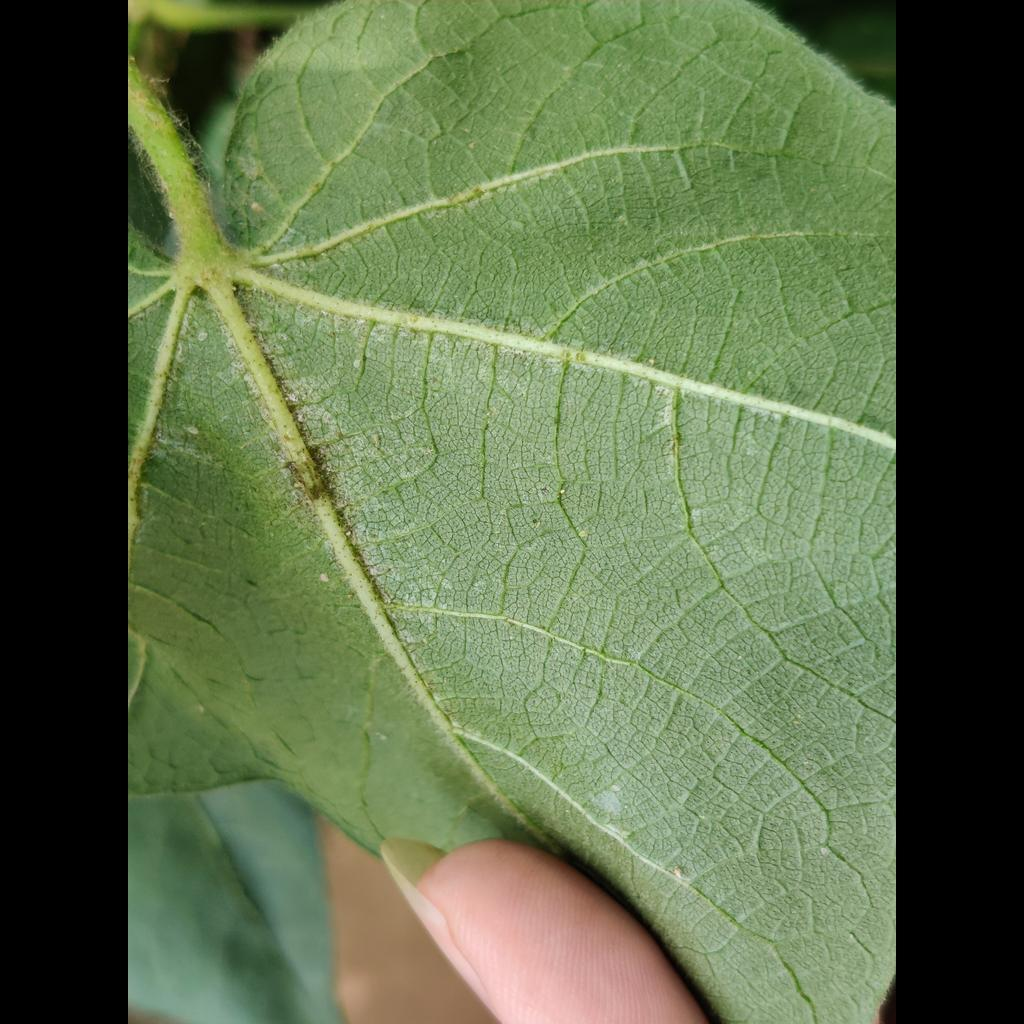nymph: (185, 424, 199, 435), (197, 333, 208, 342), (319, 573, 329, 582), (610, 784, 620, 792), (353, 359, 360, 369), (820, 847, 827, 854)
